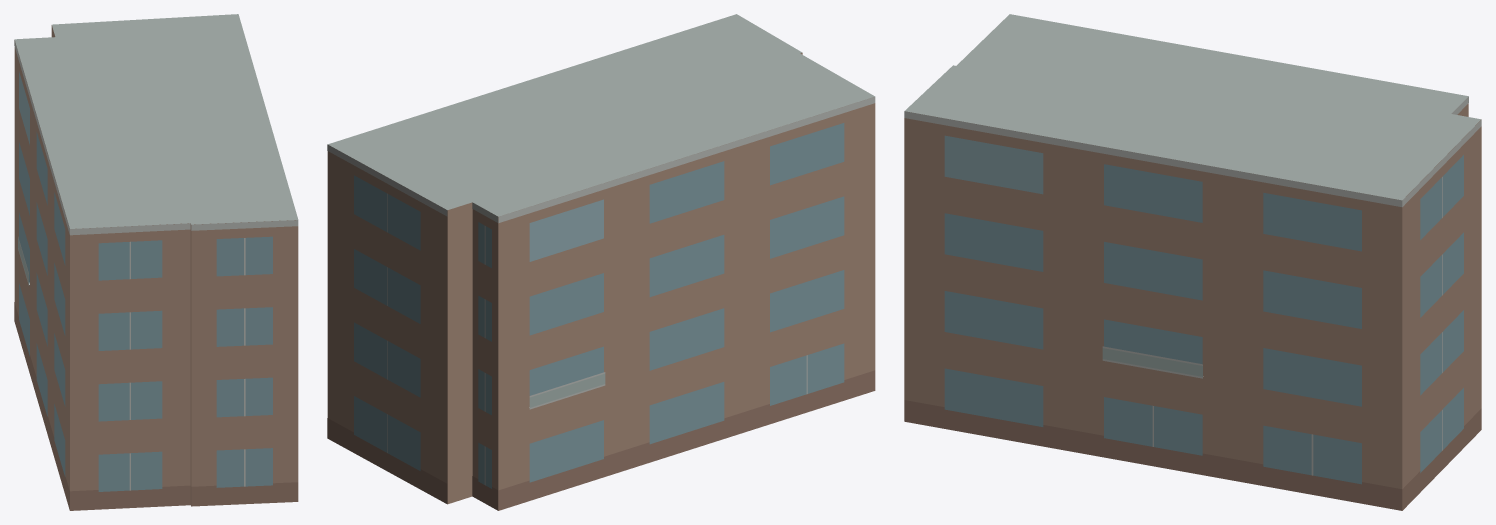
Rendered from survey-upis-33009883.glb.
3 renders of one model, left to right at view 1: azimuth 30°, elevation 25°; view 2: azimuth 150°, elevation 25°; view 3: azimuth 270°, elevation 25°, orthographic. The views are drawn at different scales.
Visible parts, largest first — view 1: survey-upis-33009883.tmp; view 2: survey-upis-33009883.tmp; view 3: survey-upis-33009883.tmp.
Boxes of the visible parts, bbox=[...] form: survey-upis-33009883.tmp: bbox=[14, 14, 298, 510]; survey-upis-33009883.tmp: bbox=[327, 14, 875, 510]; survey-upis-33009883.tmp: bbox=[904, 14, 1481, 510].
Size of the model in its own units: 14.17 by 11 by 18.54.
